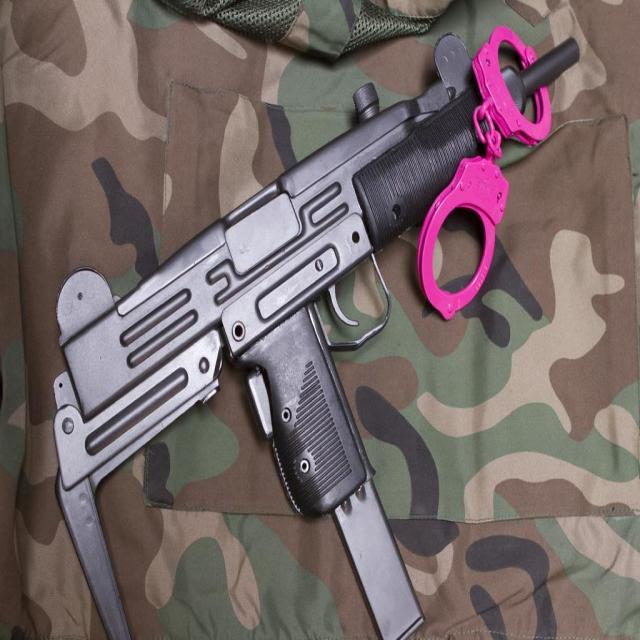weapon: (50, 24, 582, 640)
